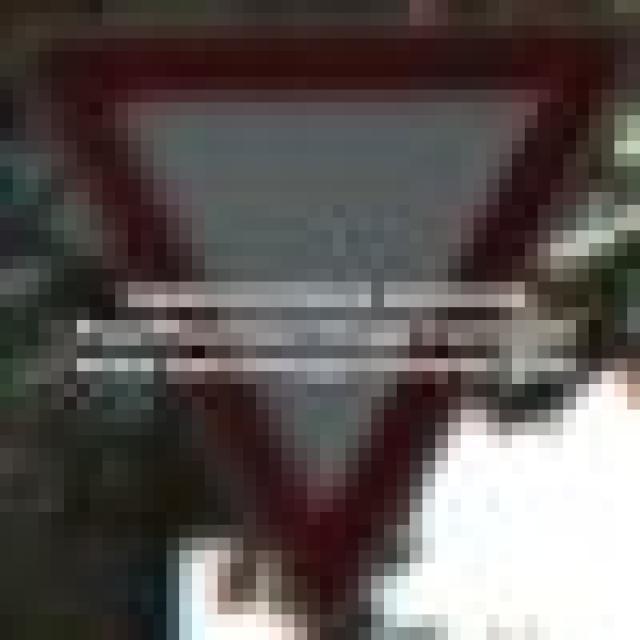gap_in_median: (26, 26, 614, 614)
